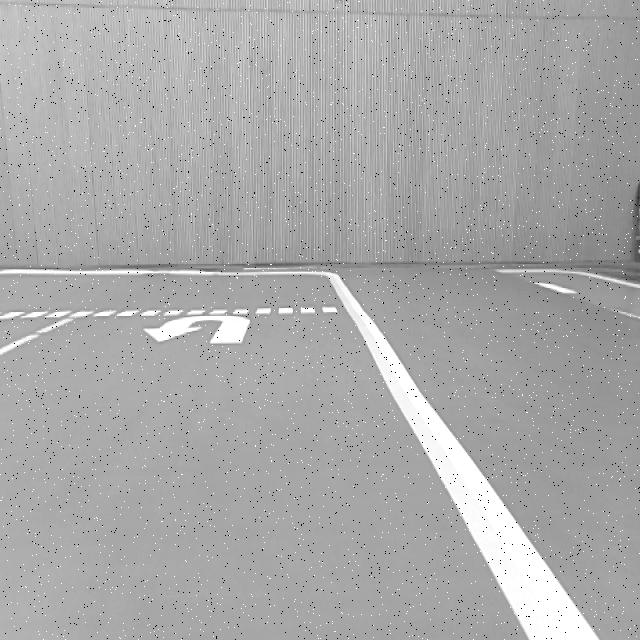left_lane: (1, 317, 81, 361)
right_lane: (327, 271, 602, 639)
